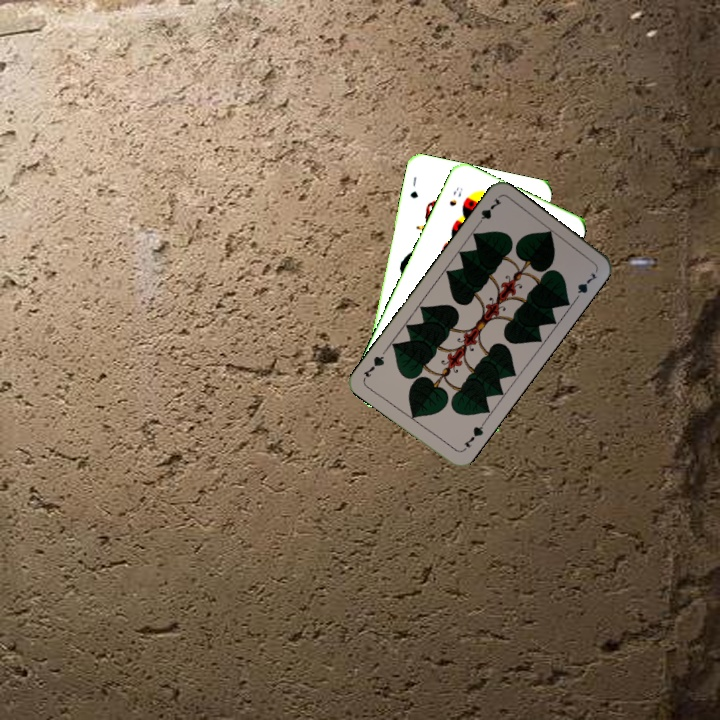G7: (472, 194, 504, 229), (458, 418, 487, 454)
GU: (406, 173, 421, 201)
S8: (445, 183, 466, 209)
